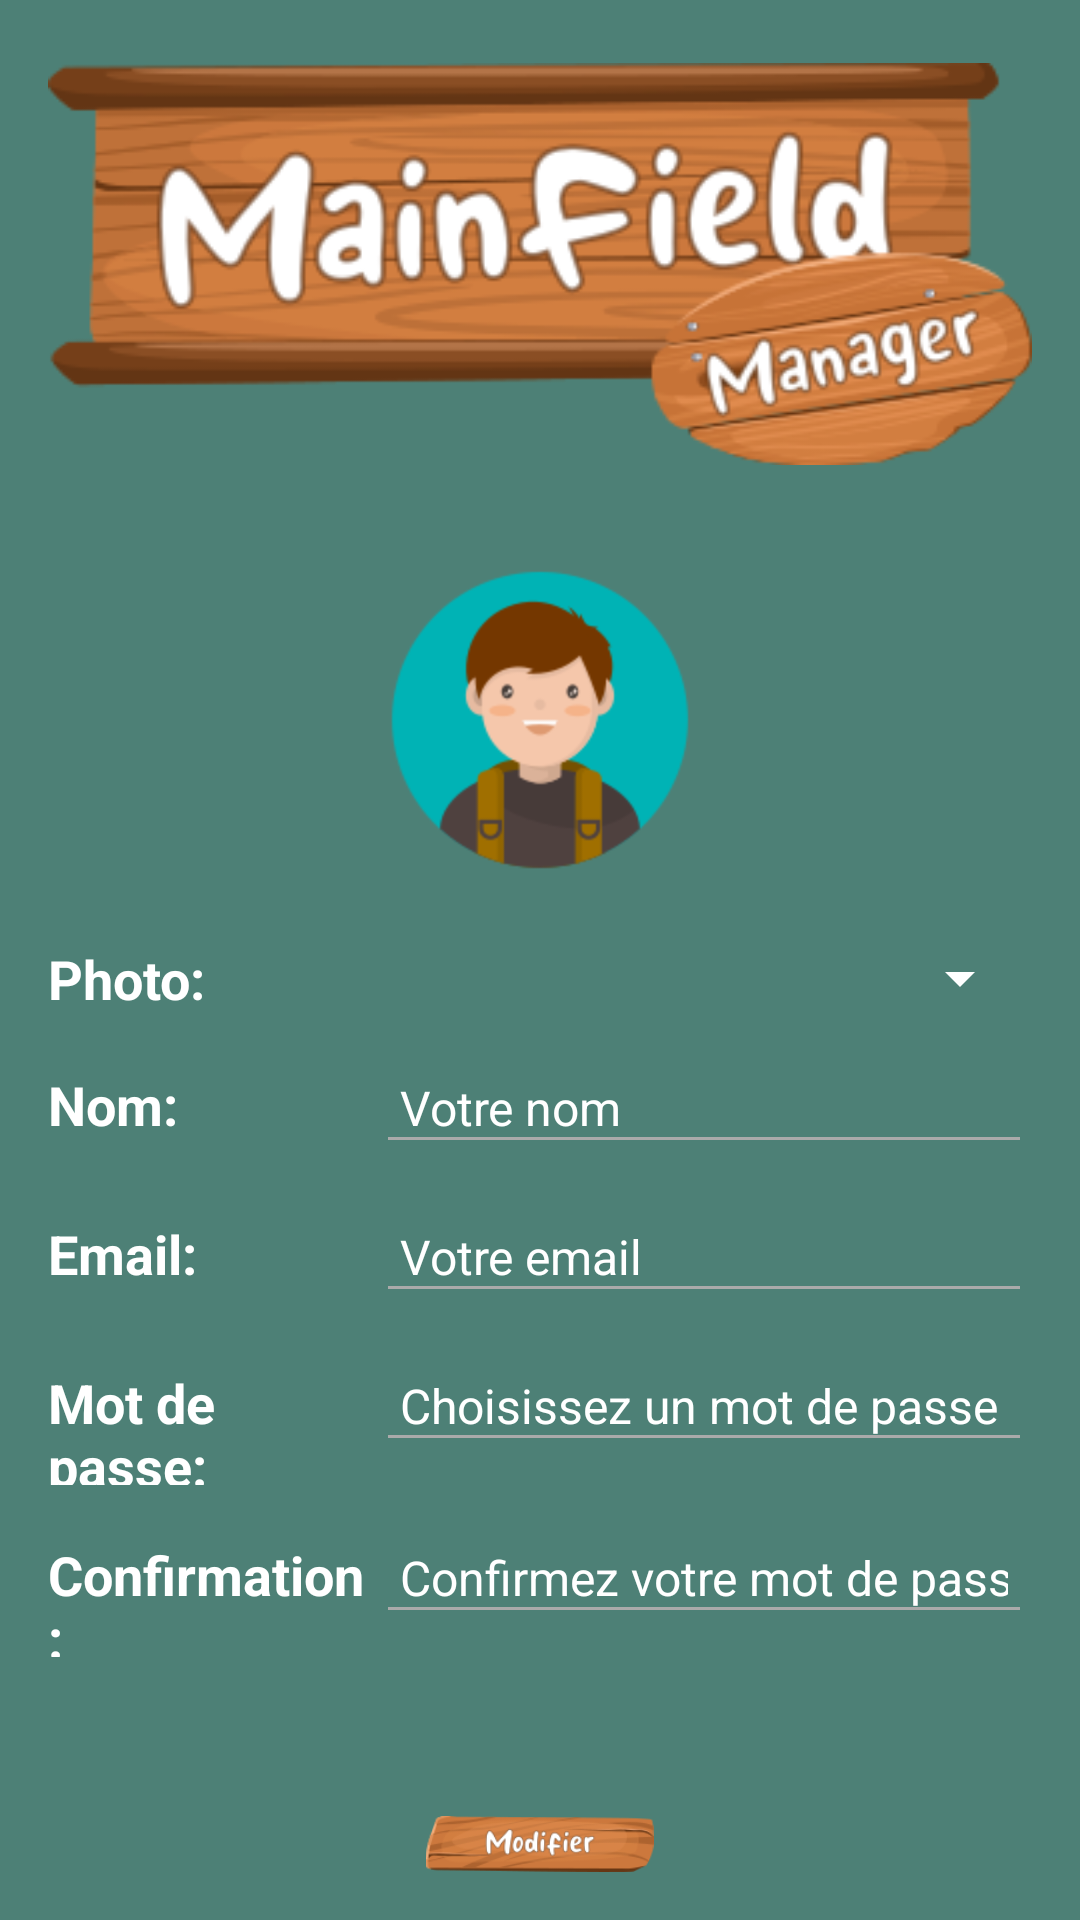

Screen size 1080*1920. Icon name, then its center in pixels as point (x, y):
user: point (540, 720)
